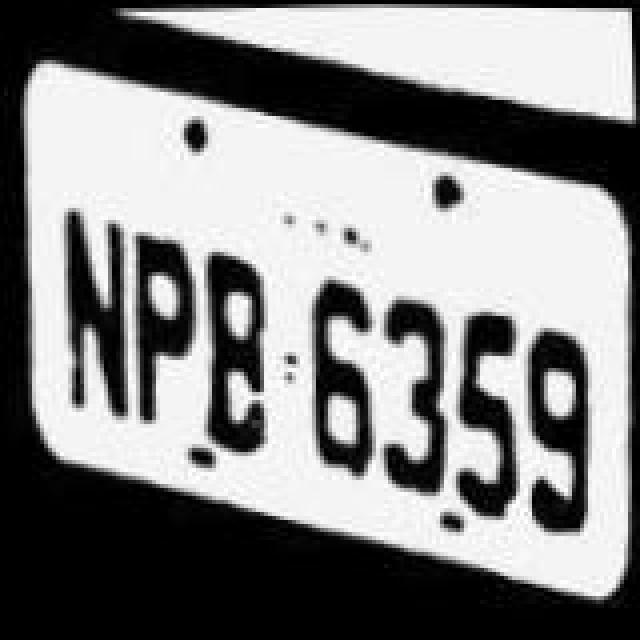3: (372, 242, 452, 510)
5: (444, 230, 524, 522)
6: (296, 248, 384, 496)
9: (512, 266, 592, 546)
B: (194, 232, 274, 452)
N: (42, 162, 130, 454)
P: (120, 198, 204, 442)
